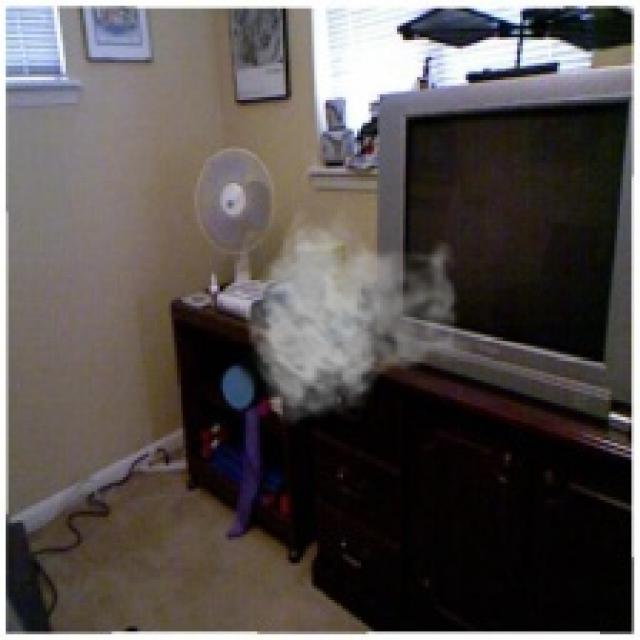smoke: (243, 203, 474, 426)
